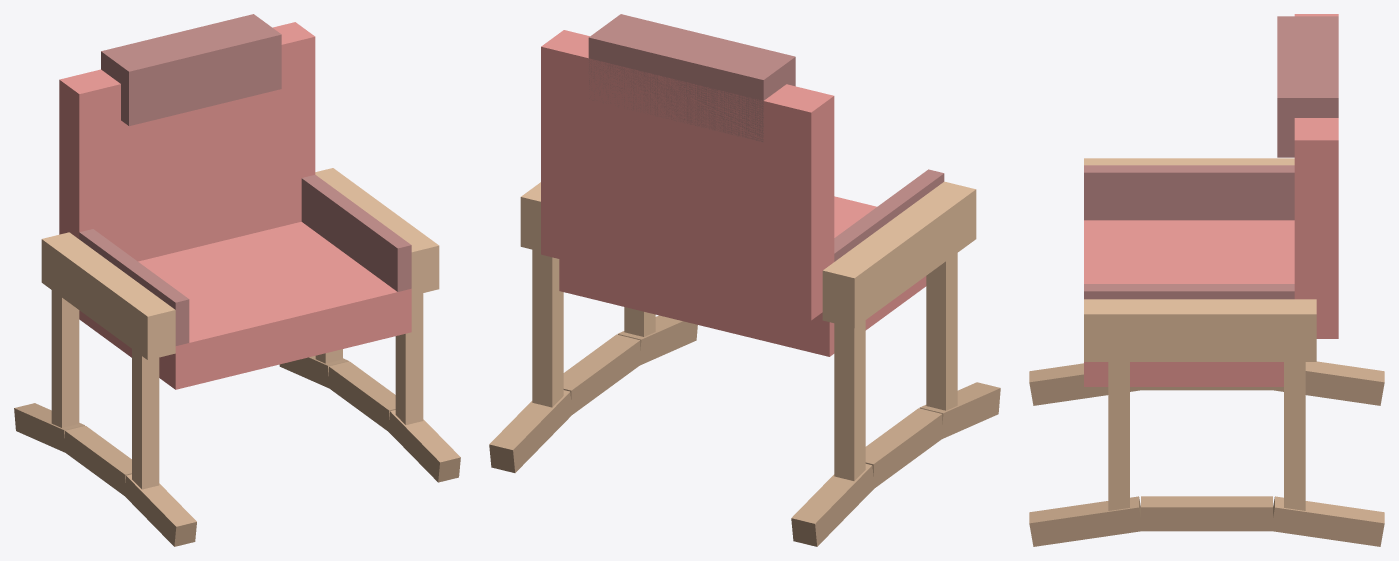
File: nurseryRocker.glb
3 views of the same model, side by side, from view 1: azimuth 30°, elevation 25°; view 2: azimuth 150°, elevation 25°; view 3: azimuth 270°, elevation 25° (orthographic). The views are drawn at different scales.
Parts seen in each view (by area): view 1: nurseryRocker; view 2: nurseryRocker; view 3: nurseryRocker.
Boxes of the visible parts, x1,y1,x2,y2 form: nurseryRocker: (14,14,460,546); nurseryRocker: (489,14,1000,546); nurseryRocker: (1029,14,1384,546).
Bounding box in the file's own units: 0.42 × 0.5198 × 0.4047.
